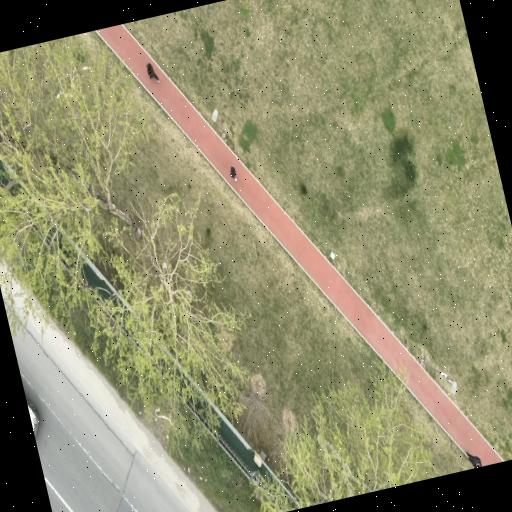car: (26, 398, 39, 435)
person: (466, 452, 482, 467), (147, 62, 159, 81), (230, 166, 236, 181)
